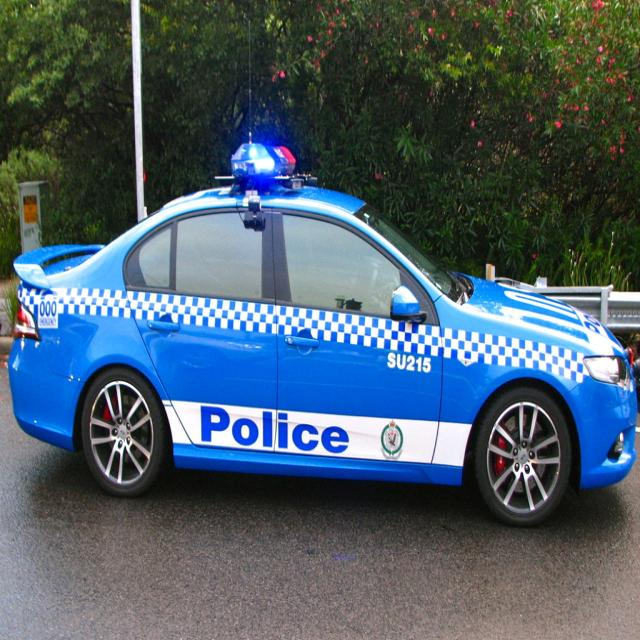car: (9, 131, 638, 522)
